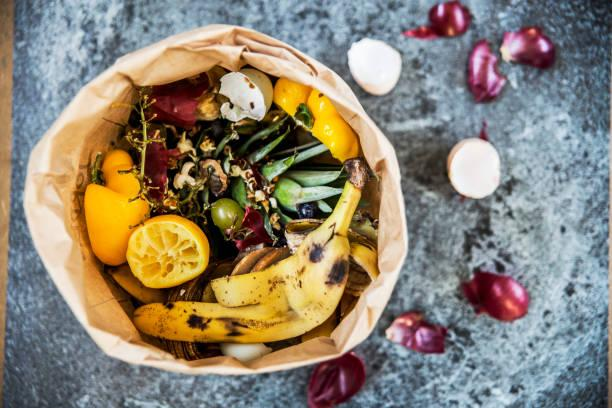organic: (80, 61, 381, 352)
